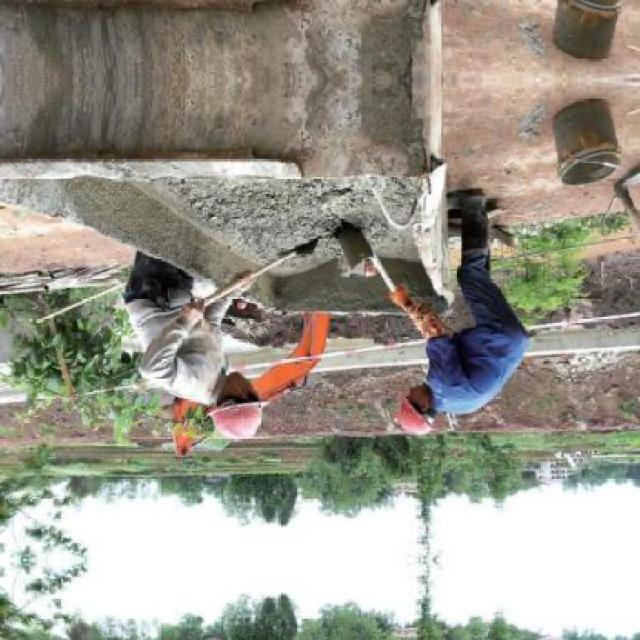con casco: (170, 362, 280, 453), (378, 374, 452, 443)
